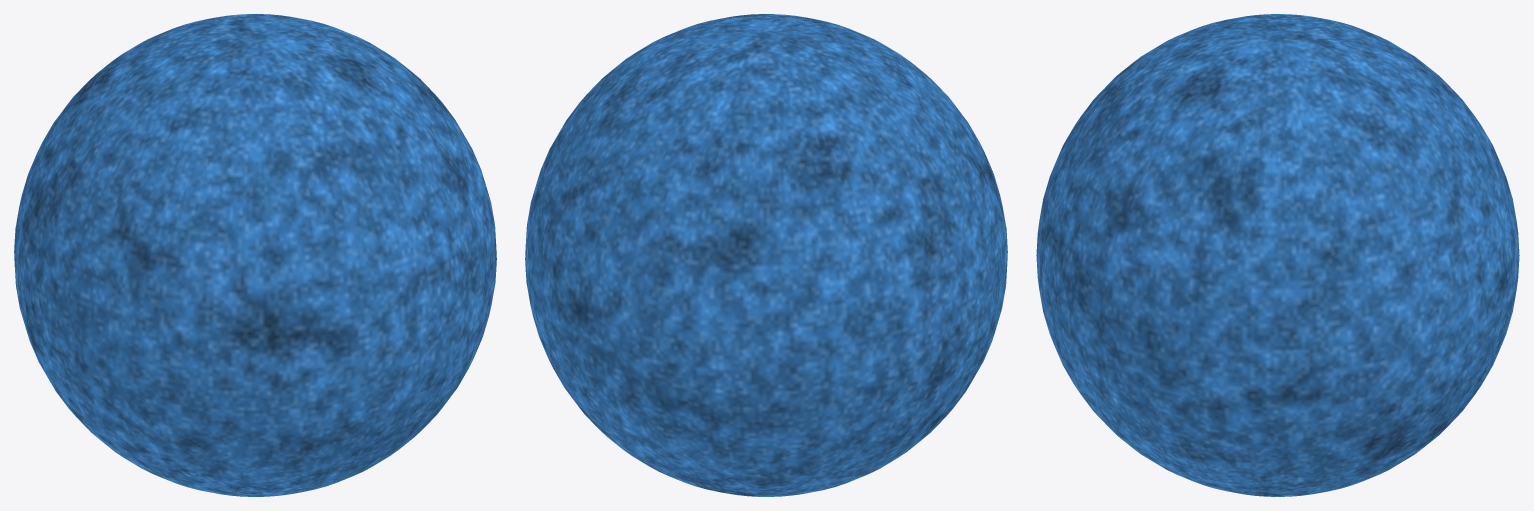
File: estrela-blue.glb
The picture shows the model from 3 angles, left to right: view 1: azimuth 30°, elevation 25°; view 2: azimuth 150°, elevation 25°; view 3: azimuth 270°, elevation 25°; orthographic projection.
Visible parts, largest first — view 1: Fotosfera · blue; view 2: Fotosfera · blue; view 3: Fotosfera · blue.
Boxes of the visible parts, left/top/right/bottom form: Fotosfera · blue: left=14, top=14, right=496, bottom=496; Fotosfera · blue: left=525, top=14, right=1007, bottom=496; Fotosfera · blue: left=1036, top=14, right=1519, bottom=496.
Size of the model in its own units: 2 by 2 by 2.
Materials: 1 (1 with a texture image).
